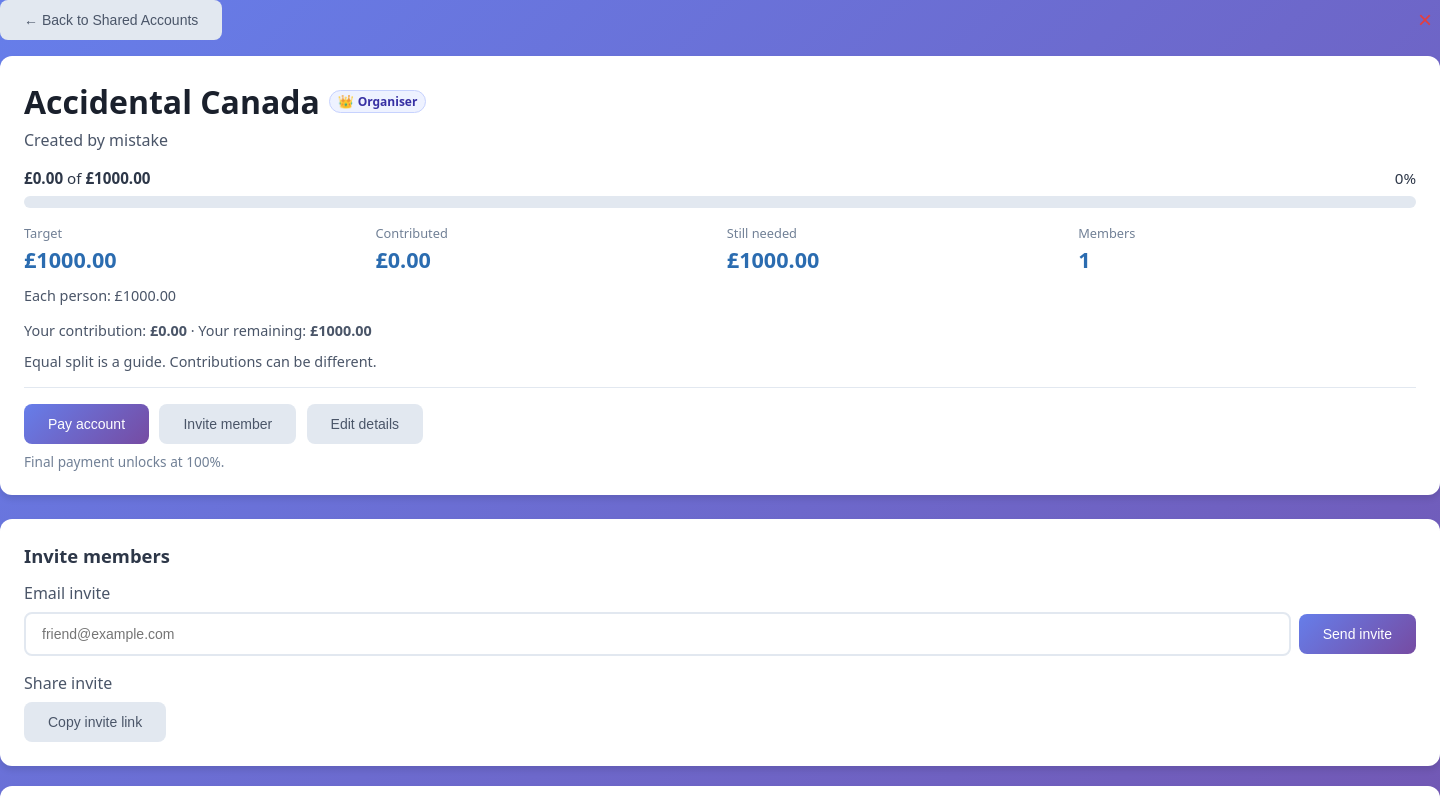
Test: SharedAccountDetail sole-owner accidental delete › does not show a transfer-ownership requirement for a sole owner
Click the button named "delete shared account" at (1425, 20), box [1410,4,1439,36]
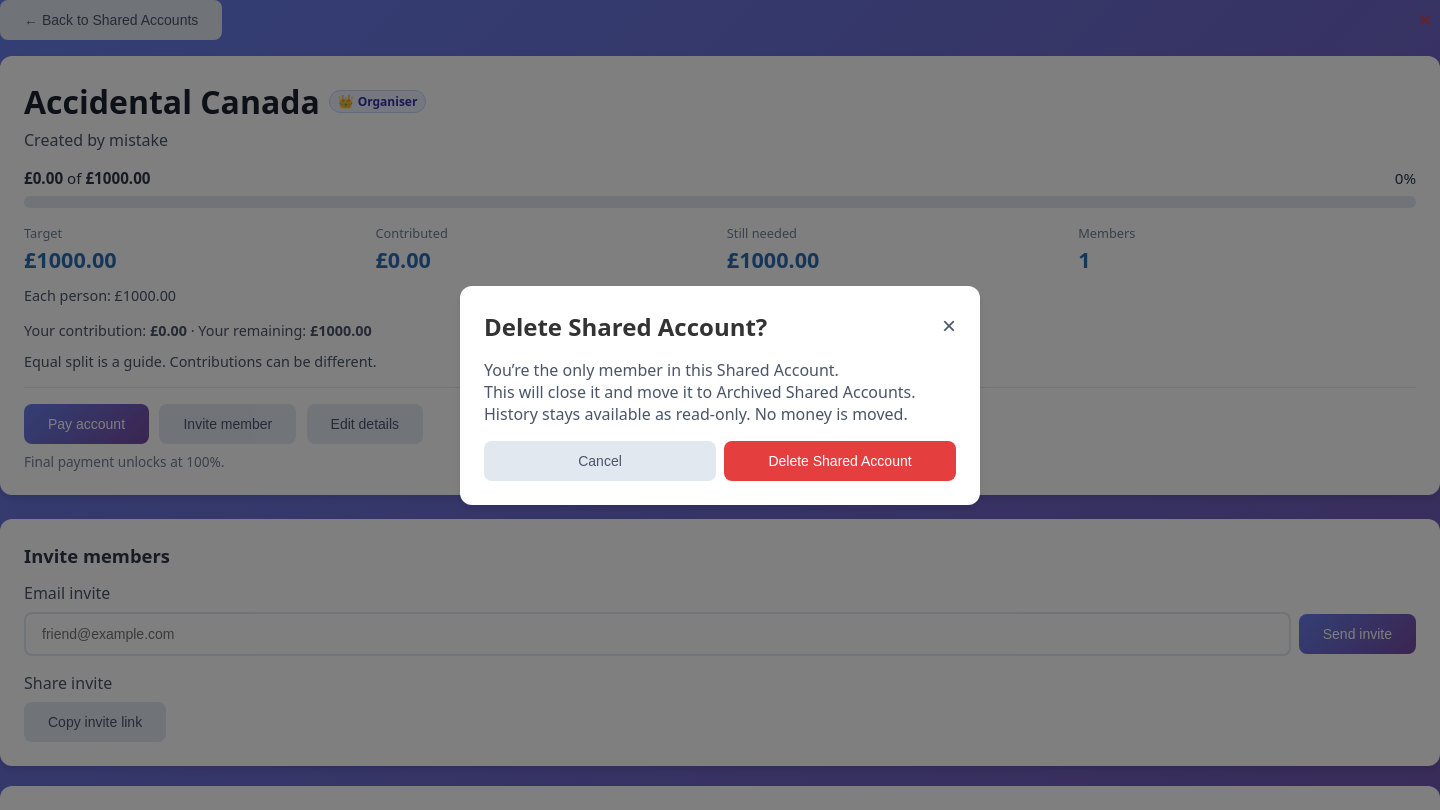
Now the heading "Delete Shared Account?" is shown, box [484,310,767,342]
Now the text "You’re the only member in this Shared Account." is shown, box [484,358,839,380]
Now the text "read-only" is shown, box [484,380,916,424]
